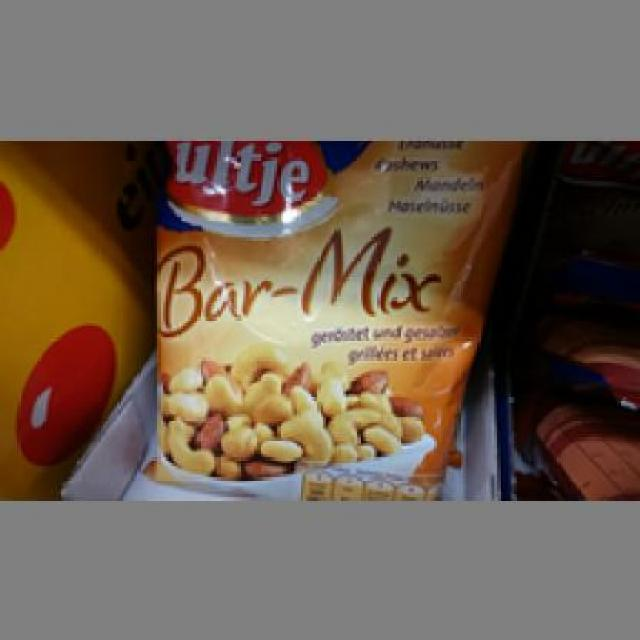Nuts: (143, 137, 526, 497)
